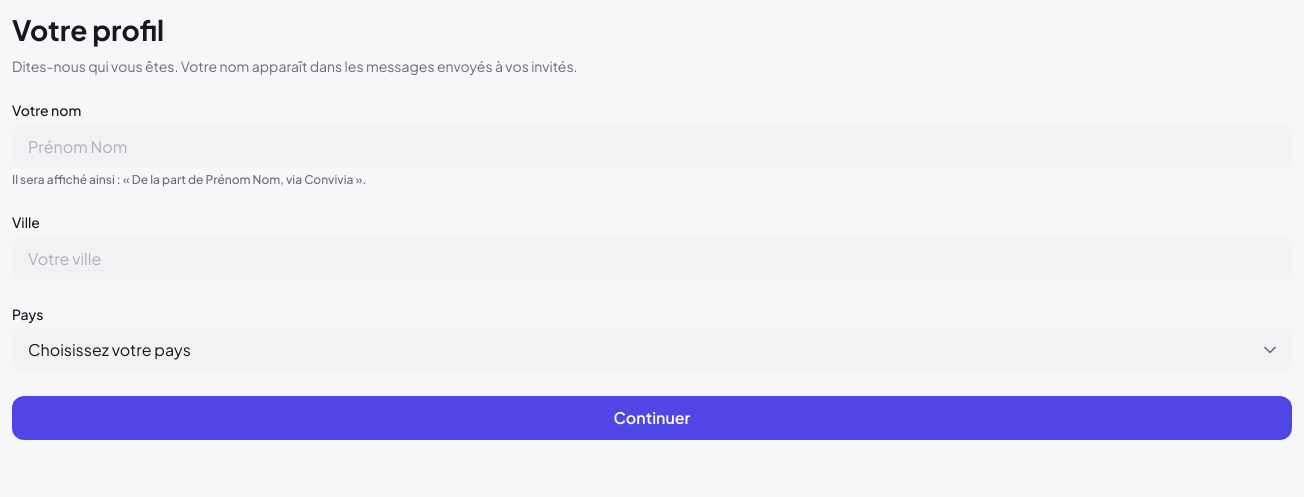
ProfileForm › signale les trois champs obligatoires
This screenshot has width=1304, height=497.
Click the button "Continuer": (652, 418) [12,396,1292,440]
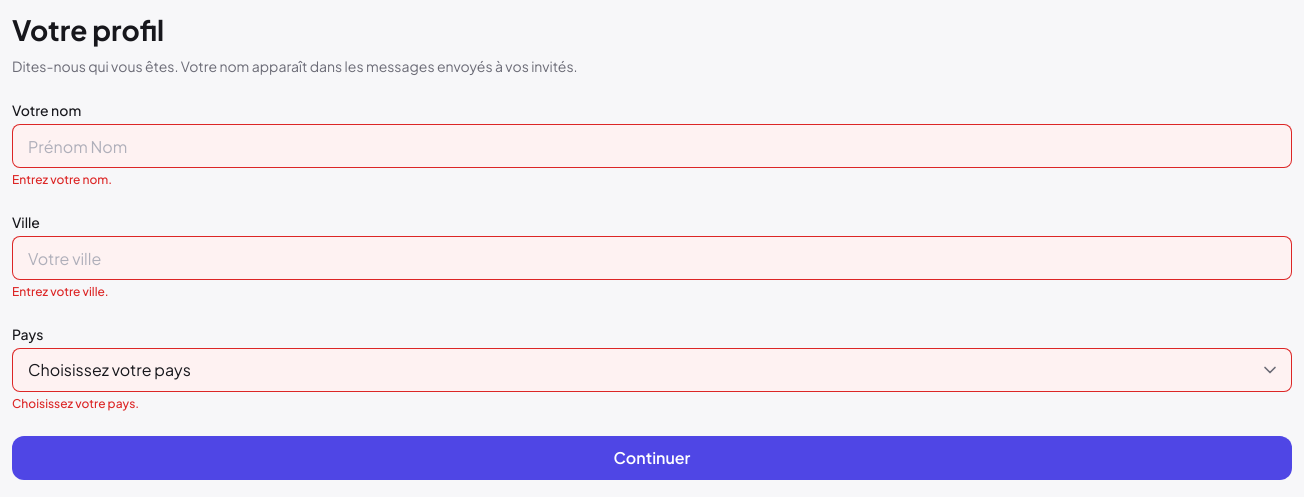
Expected: the messages read "Entrez votre nom.", "Entrez votre ville.", "Choisissez votre pays.", in this order, [12,172,112,187]; [12,284,109,299]; [12,396,139,411]
